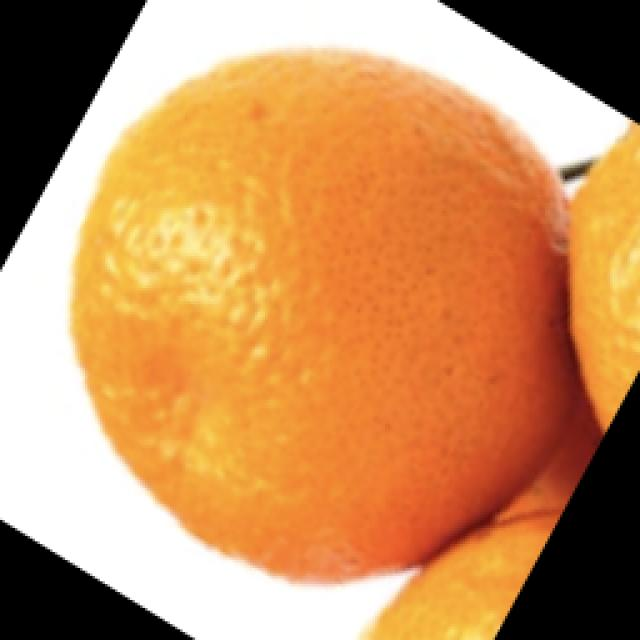matang: (84, 49, 568, 578), (350, 509, 554, 640), (564, 113, 640, 426)
